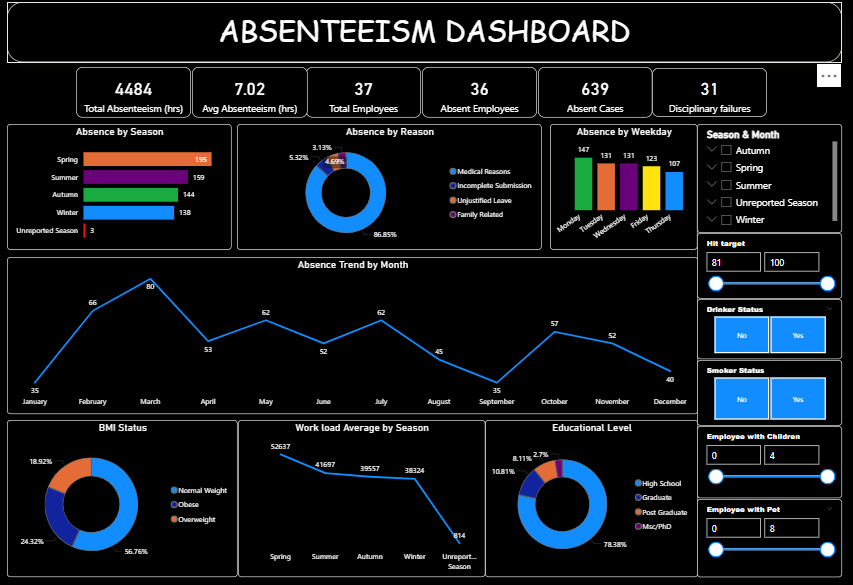

What the dashboard file says about the page in this screenshot:
{"tool":"powerbi","page":{"name":"Dashboard","canvas":[1500,1000],"ordinal":16},"visuals":[{"type":"textbox","box":[58.4,20.1,1386.9,100.4],"z":0},{"type":"card","fields":{"Values":["Sum(Absenteeisms.Absenteeism time in hours)"]},"box":[172.8,128,191.3,84],"z":1000},{"type":"card","fields":{"Values":["CountNonNull(Absenteeisms.ID)"]},"box":[939.8,127.7,189.8,83.9],"z":2000},{"type":"card","fields":{"Values":["Count(Absenteeisms.ID)"]},"box":[746.7,128,191.3,84],"z":3000},{"type":"card","fields":{"Values":["CountNonNull(Employee_info.ID)"]},"box":[555.4,128,191.3,84],"z":4000},{"type":"card","fields":{"Values":["Avg(Absenteeisms.Absenteeism time in hours)"]},"box":[365,127.7,191.6,83.9],"z":5000},{"type":"card","fields":{"Values":["Sum(Absenteeisms.Disciplinary failure)"]},"box":[1129.3,129.3,191.3,81],"z":6000},{"type":"clusteredBarChart","title":"Absence by Season","fields":{"Category":["Absenteeisms.Absenteeism_Season"],"Y":["CountNonNull(Absenteeisms.Absenteeism_Season)"]},"box":[57.8,223,373,209.2],"z":7000},{"type":"donutChart","title":"Absence by Reason","fields":{"Category":["Absenteeisms.Absenteeism_Reason"],"Y":["CountNonNull(Absenteeisms.Absenteeism_Reason)"]},"box":[440.4,223,506.5,209.2],"z":8000},{"type":"clusteredColumnChart","title":"Absence by Weekday","fields":{"Category":["Absenteeisms.Weekday"],"Y":["CountNonNull(Absenteeisms.Weekday)"]},"box":[960.7,223,245,209.2],"z":9000},{"type":"lineChart","title":"Absence Trend by Month","fields":{"Category":["Absenteeisms.Month Date.Variation.Date Hierarchy.Month"],"Y":["CountNonNull(Absenteeisms.Month Date)"]},"box":[58.4,443.4,1147.8,260.9],"z":10000},{"type":"donutChart","title":"BMI Status","fields":{"Category":["Employee_info.BMI_Status"],"Y":["CountNonNull(Employee_info.BMI_Status)"]},"box":[58.4,713.5,383.2,260.9],"z":11000},{"type":"donutChart","title":"Educational Level","fields":{"Category":["Employee_info.Educational_Level","Employee_info.ID"],"Y":["CountNonNull(Employee_info.Educational_Level)"]},"box":[852.2,713.5,354,260.9],"z":12000},{"type":"actionButton","box":[0,0,100,40],"z":13000},{"type":"lineStackedColumnComboChart","title":"Work load Average by Season","fields":{"Category":["Absenteeisms.Absenteeism_Season"],"Y2":["Sum(Absenteeisms.Work load Average/day)"]},"box":[441.6,713.5,410.6,260.9],"z":14000},{"type":"slicer","fields":{"Values":["Absenteeisms.Absenteeism_Season","Absenteeisms.Absenteeism_Month"]},"box":[1204.4,222.6,240.9,180.7],"z":15000},{"type":"slicer","fields":{"Values":["Employee_info.Drinker_Status"]},"box":[1204.4,512.8,240.9,100.4],"z":16000},{"type":"slicer","fields":{"Values":["Employee_info.Smoker_Status"]},"box":[1204.4,615,240.9,109.5],"z":17000},{"type":"slicer","fields":{"Values":["Absenteeisms.Hit target"]},"box":[1204.4,403.3,240.9,109.5],"z":18000},{"type":"slicer","fields":{"Values":["Employee_info.Children"]},"box":[1204.4,724.5,240.9,120.4],"z":19000},{"type":"slicer","fields":{"Values":["Employee_info.Pet"]},"box":[1204.4,844.9,240.9,129.6],"z":20000}]}

Visuals, with their boxes in screenshot pixels (x1, y1, x2, y2), scaled from the page's 1500x1000 canvas onto the 853x585 screenshot:
textbox: rect(33, 12, 822, 70)
card - Sum(Absenteeisms.Absenteeism time in hours): rect(98, 75, 207, 124)
card - CountNonNull(Absenteeisms.ID): rect(534, 75, 642, 124)
card - Count(Absenteeisms.ID): rect(425, 75, 533, 124)
card - CountNonNull(Employee_info.ID): rect(316, 75, 425, 124)
card - Avg(Absenteeisms.Absenteeism time in hours): rect(208, 75, 317, 124)
card - Sum(Absenteeisms.Disciplinary failure): rect(642, 76, 751, 123)
"Absence by Season" clusteredBarChart: rect(33, 130, 245, 253)
"Absence by Reason" donutChart: rect(250, 130, 538, 253)
"Absence by Weekday" clusteredColumnChart: rect(546, 130, 686, 253)
"Absence Trend by Month" lineChart: rect(33, 259, 686, 412)
"BMI Status" donutChart: rect(33, 417, 251, 570)
"Educational Level" donutChart: rect(485, 417, 686, 570)
actionButton: rect(0, 0, 57, 23)
"Work load Average by Season" lineStackedColumnComboChart: rect(251, 417, 485, 570)
slicer - Absenteeisms.Absenteeism_Season x Absenteeisms.Absenteeism_Month: rect(685, 130, 822, 236)
slicer - Employee_info.Drinker_Status: rect(685, 300, 822, 359)
slicer - Employee_info.Smoker_Status: rect(685, 360, 822, 424)
slicer - Absenteeisms.Hit target: rect(685, 236, 822, 300)
slicer - Employee_info.Children: rect(685, 424, 822, 494)
slicer - Employee_info.Pet: rect(685, 494, 822, 570)
